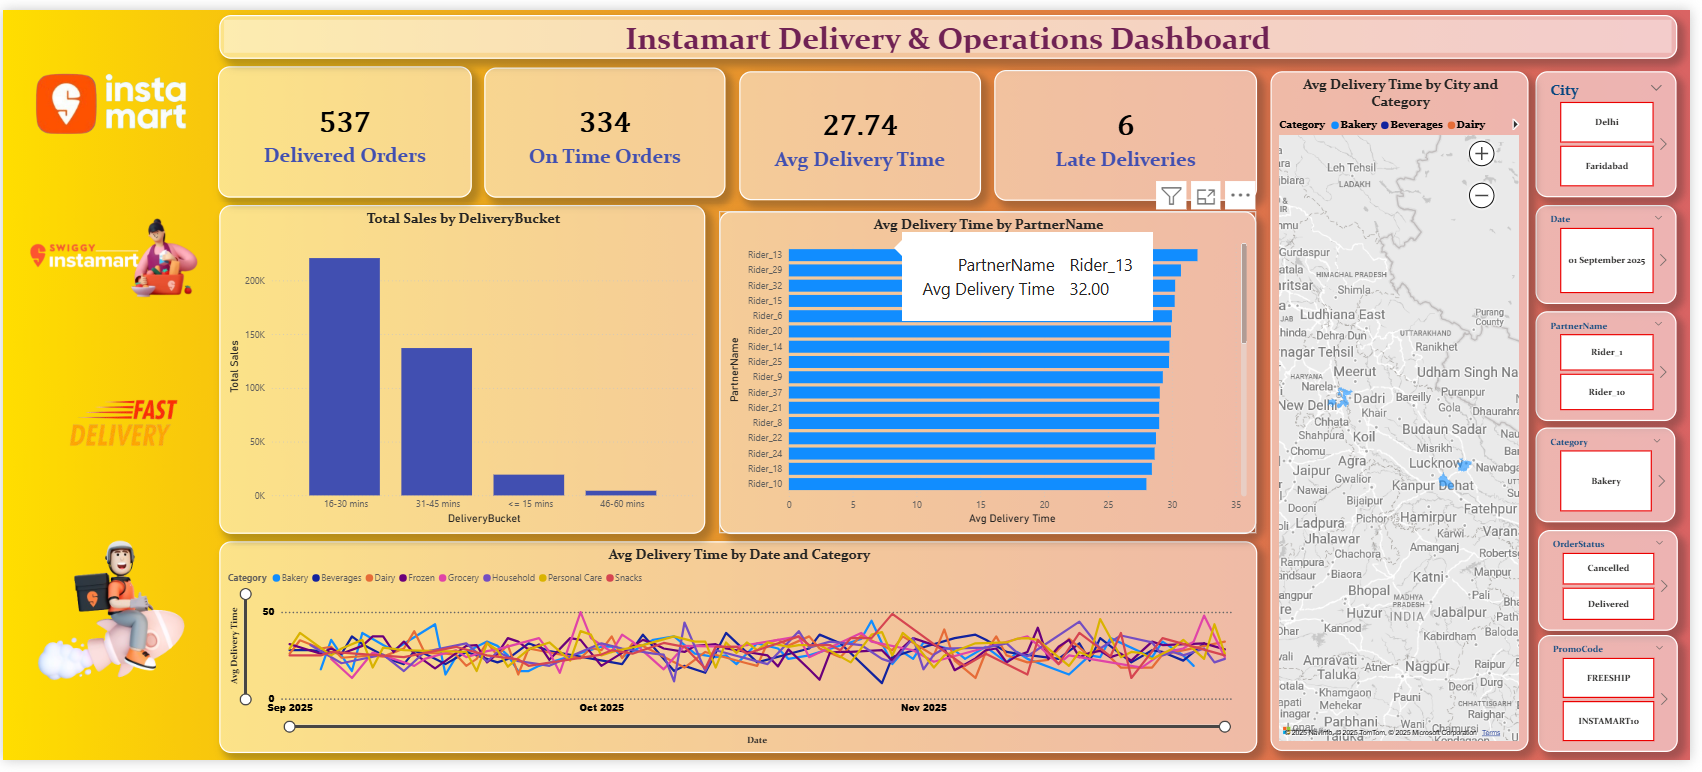

The dashboard page shown, as its layout file describes it:
{"tool":"powerbi","page":{"name":"Page 3","canvas":[2250,1000],"ordinal":2},"visuals":[{"type":"lineChart","fields":{"Category":["DateDim.Date"],"Series":["Orders.Category"],"Y":["Orders.Avg Delivery Time"]},"box":[288,708,1384,282],"z":0},{"type":"columnChart","fields":{"Category":["Orders.DeliveryBucket"],"Y":["Orders.Total Sales"]},"box":[288,260,648,438],"z":1000},{"type":"slicer","fields":{"Values":["DateDim.Date"]},"box":[2044,260,188,132],"z":2000},{"type":"slicer","fields":{"Values":["DeliveryPartners.PartnerName"]},"box":[2044,402,188,146],"z":3000},{"type":"card","fields":{"Values":["Orders.Delivered Orders"]},"box":[286.7,75,338.3,175],"z":4000},{"type":"card","fields":{"Values":["Orders.On Time Orders"]},"box":[641.7,76.7,321.7,173.3],"z":5000},{"type":"card","fields":{"Values":["Orders.Late Deliveries"]},"box":[1322,80,350,174],"z":6000},{"type":"card","fields":{"Values":["Orders.Avg Delivery Time"]},"box":[982,82,322,172],"z":7000},{"type":"image","box":[25,0,238.3,253.3],"z":8000},{"type":"image","box":[26.7,160,238.3,340],"z":9000},{"type":"image","box":[25,608.3,261.7,380],"z":10000},{"type":"image","box":[0,398.3,321.7,295],"z":11000},{"type":"shape","box":[288,6,1944,58],"z":12000},{"type":"barChart","fields":{"Category":["DeliveryPartners.PartnerName"],"Y":["Orders.Avg Delivery Time"]},"box":[955.7,268.6,715.7,430],"z":13000},{"type":"slicer","fields":{"Values":["Orders.Category"]},"box":[2044,556,186,126],"z":14000},{"type":"slicer","fields":{"Values":["Orders.OrderStatus"]},"box":[2046,694,186,134],"z":15000},{"type":"slicer","fields":{"Values":["Orders.PromoCode"]},"box":[2046,834,186,156],"z":16000},{"type":"slicer","fields":{"Values":["Orders.City"]},"box":[2043.3,81.7,188.3,168.3],"z":17000},{"type":"filledMap","fields":{"Category":["Orders.City"],"Series":["Orders.Category"]},"box":[1690,82,344,906],"z":18000}]}

Visuals, with their boxes in screenshot pixels (x1, y1, x2, y2), scaled from the page's 2250x1000 canvas onto the 1702x772 screenshot:
lineChart - DateDim.Date x Orders.Category: <bbox>218, 547, 1265, 764</bbox>
columnChart - Orders.DeliveryBucket x Orders.Total Sales: <bbox>218, 201, 708, 539</bbox>
slicer - DateDim.Date: <bbox>1546, 201, 1688, 303</bbox>
slicer - DeliveryPartners.PartnerName: <bbox>1546, 310, 1688, 423</bbox>
card - Orders.Delivered Orders: <bbox>217, 58, 473, 193</bbox>
card - Orders.On Time Orders: <bbox>485, 59, 729, 193</bbox>
card - Orders.Late Deliveries: <bbox>1000, 62, 1265, 196</bbox>
card - Orders.Avg Delivery Time: <bbox>743, 63, 986, 196</bbox>
image: <bbox>19, 0, 199, 196</bbox>
image: <bbox>20, 124, 200, 386</bbox>
image: <bbox>19, 470, 217, 763</bbox>
image: <bbox>0, 307, 243, 535</bbox>
shape: <bbox>218, 5, 1688, 49</bbox>
barChart - DeliveryPartners.PartnerName x Orders.Avg Delivery Time: <bbox>723, 207, 1264, 539</bbox>
slicer - Orders.Category: <bbox>1546, 429, 1687, 527</bbox>
slicer - Orders.OrderStatus: <bbox>1548, 536, 1688, 639</bbox>
slicer - Orders.PromoCode: <bbox>1548, 644, 1688, 764</bbox>
slicer - Orders.City: <bbox>1546, 63, 1688, 193</bbox>
filledMap - Orders.City x Orders.Category: <bbox>1278, 63, 1539, 763</bbox>
